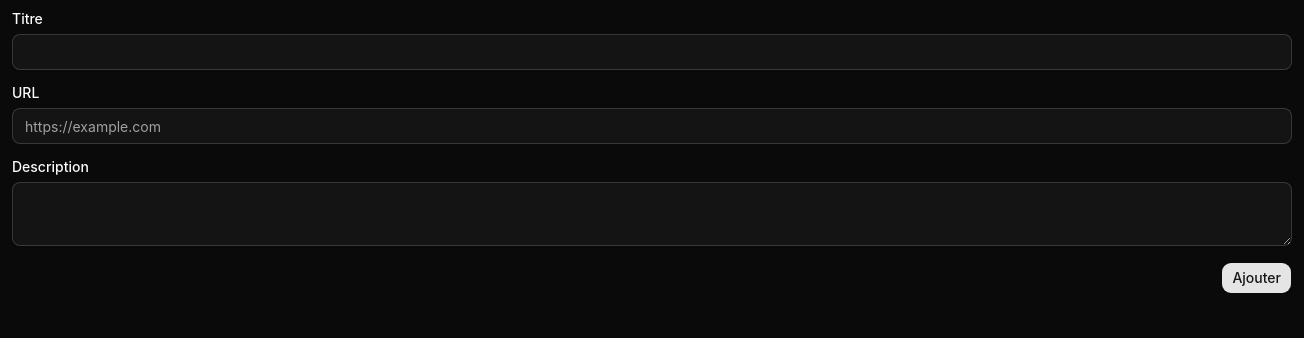
Test: LinkForm › Form Validation › shows error when URL is empty
The width and height of the screenshot is (1304, 338).
Type "Test Link" into the field labelled "Titre" at (652, 52), box x1=12 y1=34 x2=1292 y2=70
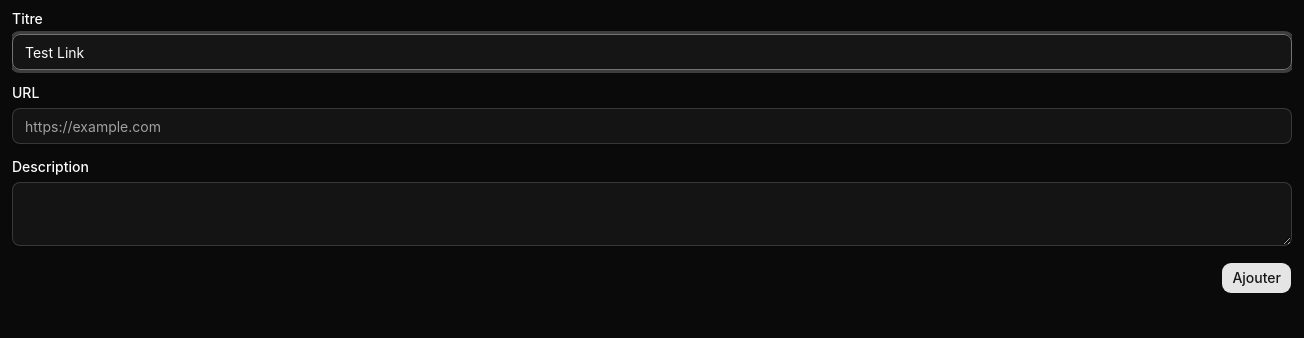
Click the button "Ajouter" at (1257, 278), box x1=1221 y1=262 x2=1292 y2=294
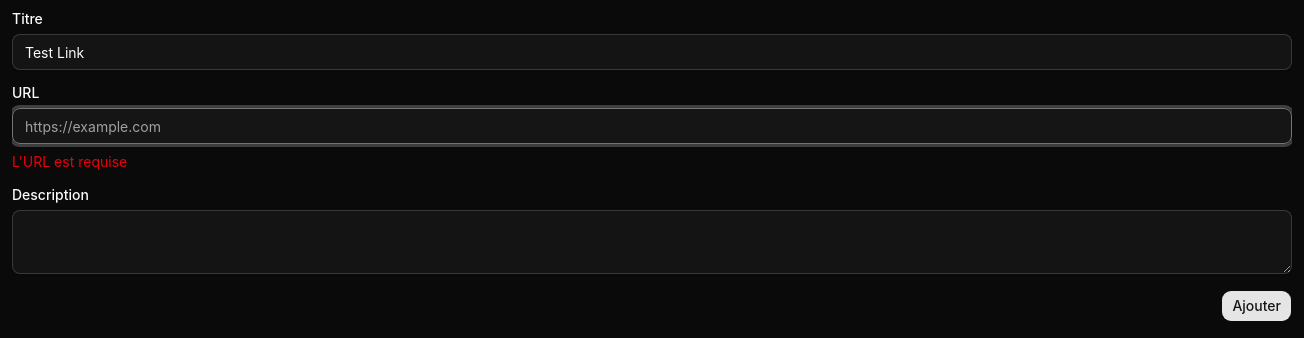
Expected: the text "L'URL est requise" is shown, x1=12 y1=153 x2=127 y2=170
